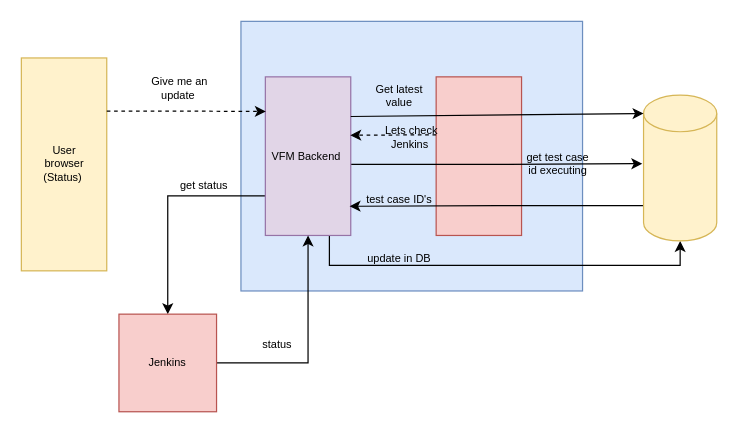
The diagram is 738 pixels wide and 433 high, and some of its shapes have lost their labels. Each missing label, with the centre of its shape:
"DB" goes at (x=679, y=167).
"Queue" goes at (x=478, y=155).
